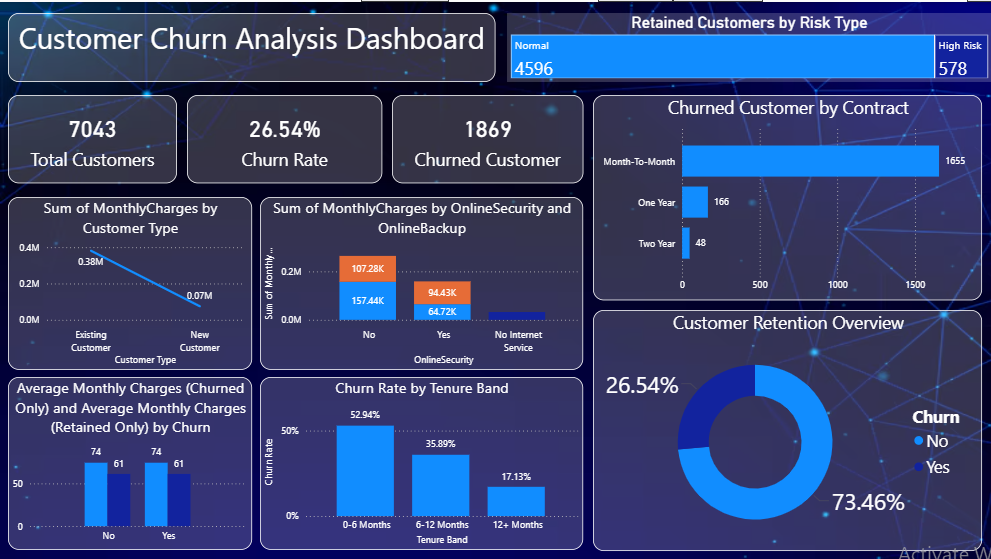

This screenshot's page, from the dashboard's own definition file:
{"tool":"powerbi","page":{"name":"Page 1","canvas":[1280,720],"ordinal":0},"visuals":[{"type":"textbox","box":[10.7,14.3,629.3,89.4],"z":0},{"type":"treemap","title":"            Retained Customers by Risk Type","fields":{"Values":["Calculated Measure.Retained Customers"],"Group":["telco_churn_unclean.Risk Type"]},"box":[654.3,14.3,625.7,89.4],"z":1000},{"type":"card","fields":{"Values":["Calculated Measure.Total Customers"]},"box":[10.7,119.8,218.1,114.4],"z":2000},{"type":"card","fields":{"Values":["Calculated Measure.Churn Rate"]},"box":[241.3,119.8,252.1,114.4],"z":3000},{"type":"card","fields":{"Values":["Calculated Measure.Churned Customer"]},"box":[505.9,119.8,246.7,114.4],"z":4000},{"type":"donutChart","title":"Customer Retention Overview","fields":{"Y":["Calculated Measure.Total Customers"],"Category":["telco_churn_unclean.Churn"]},"box":[765.1,396.9,502.3,311.1],"z":5000},{"type":"barChart","fields":{"Category":["telco_churn_unclean.Contract"],"Y":["Calculated Measure.Churned Customer"]},"box":[765.1,119.8,502.3,264.6],"z":6000},{"type":"columnChart","fields":{"Category":["telco_churn_unclean.OnlineSecurity"],"Y":["Sum(telco_churn_unclean.MonthlyCharges)"],"Series":["telco_churn_unclean.OnlineBackup"]},"box":[336.1,252.1,416.5,223.5],"z":7000},{"type":"clusteredColumnChart","fields":{"Category":["telco_churn_unclean.Tenure Band"],"Y":["Calculated Measure.Churn Rate"]},"box":[336.1,484.5,416.5,223.5],"z":8000},{"type":"clusteredColumnChart","fields":{"Y":["Calculated Measure.Average Monthly Charges (Churned Only)","Calculated Measure.Average Monthly Charges (Retained Only)"],"Category":["telco_churn_unclean.Churn"]},"box":[10.7,484.5,314.6,223.5],"z":9000},{"type":"lineChart","fields":{"Y":["Sum(telco_churn_unclean.MonthlyCharges)"],"Category":["telco_churn_unclean.Customer Type"]},"box":[10.7,252.1,314.6,223.5],"z":10000}]}

Visuals, with their boxes in screenshot pixels (x1, y1, x2, y2), scaled from the page's 1280x720 canvas onto the 991x559 screenshot:
textbox: bbox=(8, 11, 496, 81)
"            Retained Customers by Risk Type" treemap: bbox=(507, 11, 990, 81)
card - Calculated Measure.Total Customers: bbox=(8, 93, 177, 182)
card - Calculated Measure.Churn Rate: bbox=(187, 93, 382, 182)
card - Calculated Measure.Churned Customer: bbox=(392, 93, 583, 182)
"Customer Retention Overview" donutChart: bbox=(592, 308, 981, 550)
barChart - telco_churn_unclean.Contract x Calculated Measure.Churned Customer: bbox=(592, 93, 981, 298)
columnChart - telco_churn_unclean.OnlineSecurity x Sum(telco_churn_unclean.MonthlyCharges): bbox=(260, 196, 583, 369)
clusteredColumnChart - telco_churn_unclean.Tenure Band x Calculated Measure.Churn Rate: bbox=(260, 376, 583, 550)
clusteredColumnChart - Calculated Measure.Average Monthly Charges (Churned Only) x Calculated Measure.Average Monthly Charges (Retained Only): bbox=(8, 376, 252, 550)
lineChart - Sum(telco_churn_unclean.MonthlyCharges) x telco_churn_unclean.Customer Type: bbox=(8, 196, 252, 369)
